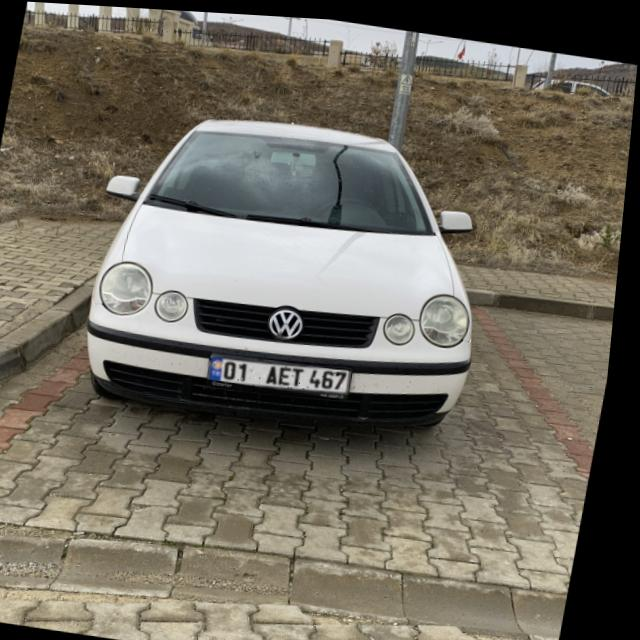license_plate: (213, 348, 360, 394)
